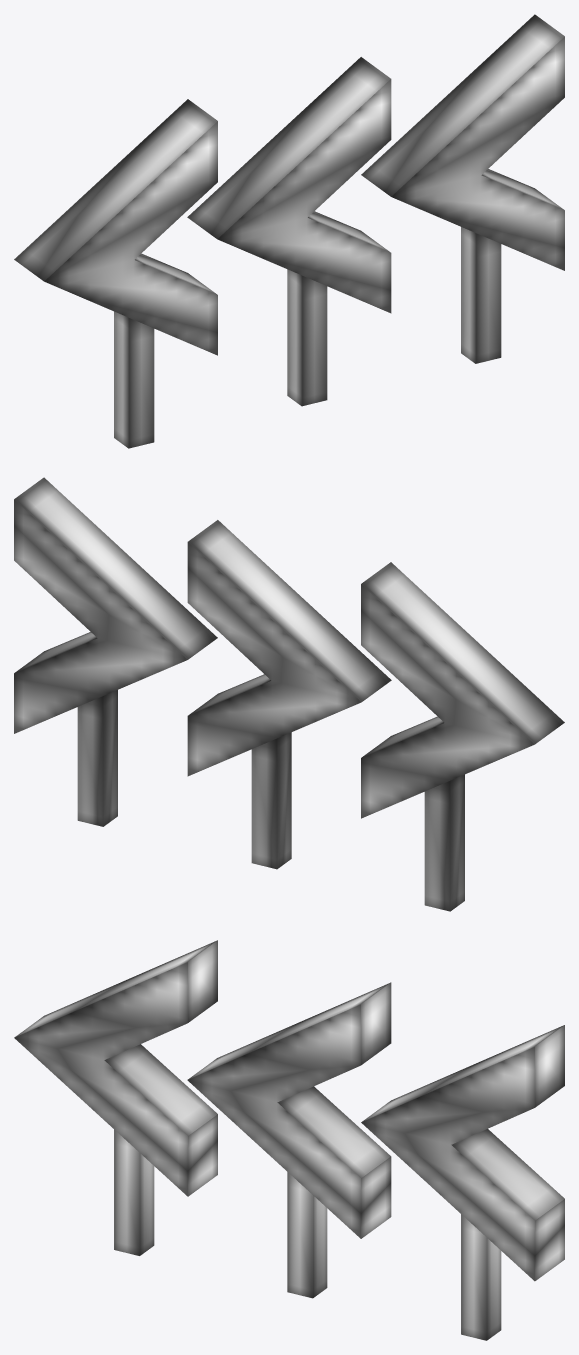
File: Arrow-02.fbx
3 views of the same model, one above another, from view 1: azimuth 30°, elevation 25°; view 2: azimuth 150°, elevation 25°; view 3: azimuth 330°, elevation 25° (orthographic).
Visible parts, largest first — view 1: Arrow-02; view 2: Arrow-02; view 3: Arrow-02.
Boxes of the visible parts, x1,y1,x2,y2 form: Arrow-02: (14, 14, 564, 448); Arrow-02: (14, 477, 564, 911); Arrow-02: (14, 940, 564, 1340).
Bounding box in the file's own units: 0.3748 × 0.2155 × 0.0375.
